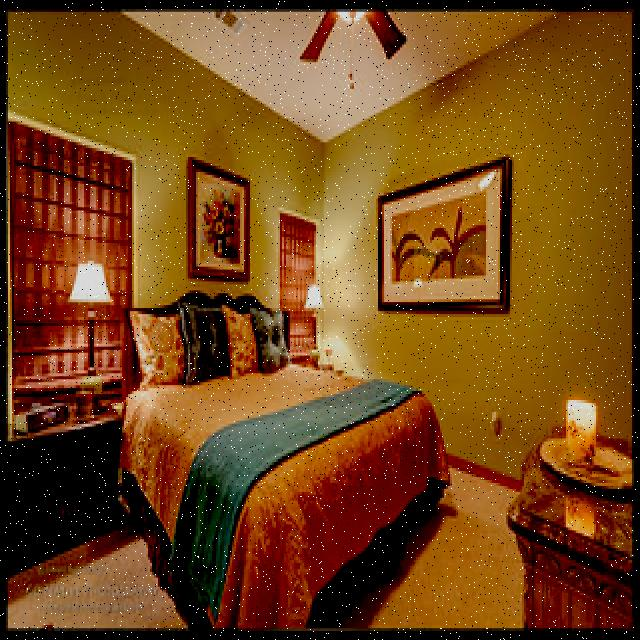bed: (116, 294, 437, 626)
